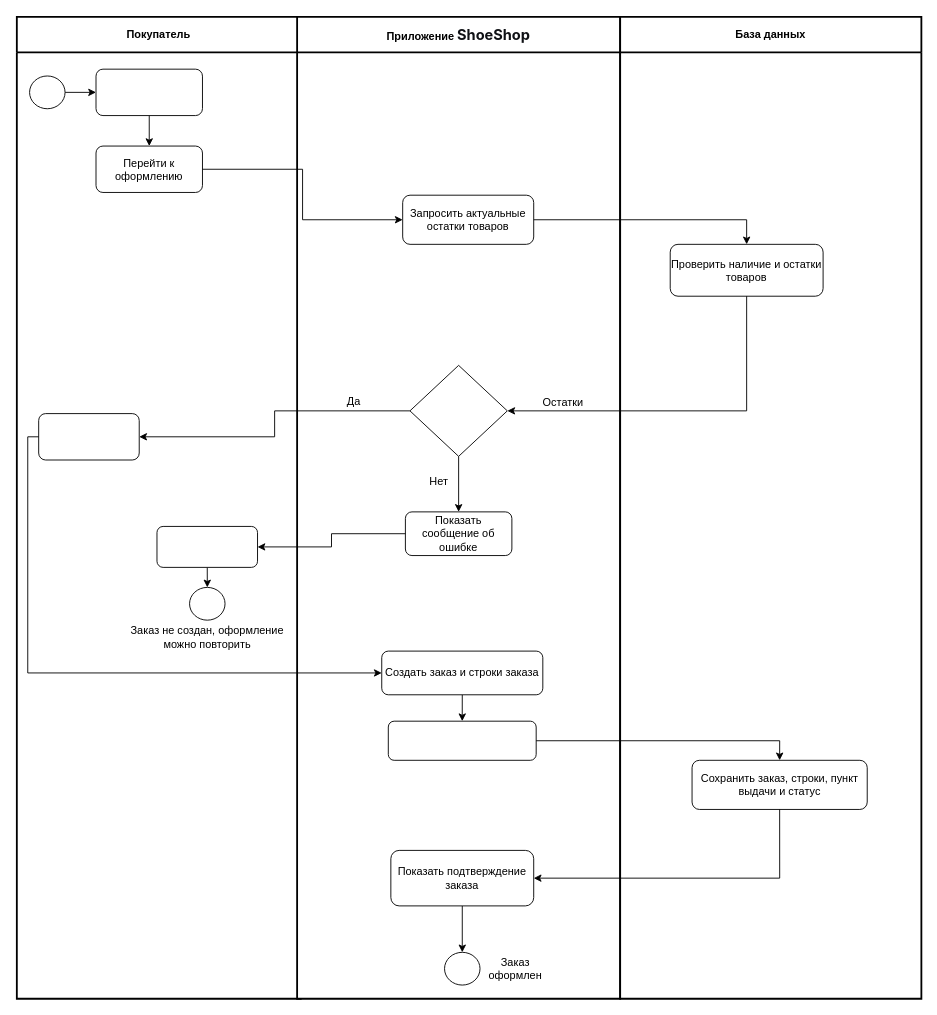
Some shapes in this 937 by 1015 pixel diagram are drawn without their labels. The shapes that lost their labels are listed below. From the top down, each one's centre as x and y in pixels, then its label:
point (148, 92): Выбрать товары в каталоге
point (458, 410): Все товары в наличии?
point (88, 436): Выбрать пункт выдачи и подтвердить
point (207, 546): Изменить состав корзины
point (461, 740): Назначить статус и код получения
